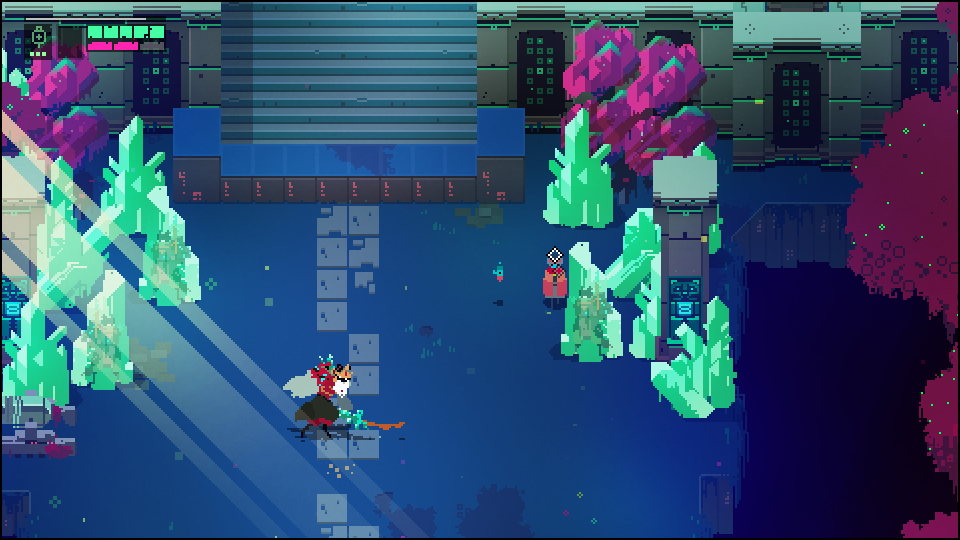hanged_man: (282, 349, 382, 439)
player: (540, 249, 572, 318)
